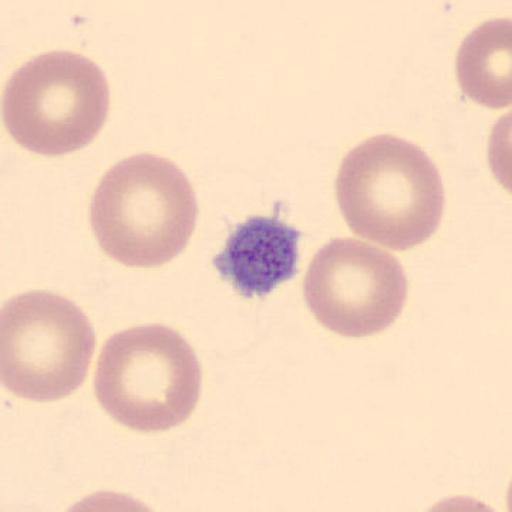Platelet: (208, 212, 304, 300)
RBC: (334, 130, 448, 252), (86, 150, 200, 270), (92, 322, 205, 434), (2, 47, 112, 159), (301, 234, 410, 340), (2, 287, 98, 404), (453, 14, 512, 112), (51, 488, 172, 512), (486, 104, 512, 200), (409, 492, 512, 511)
